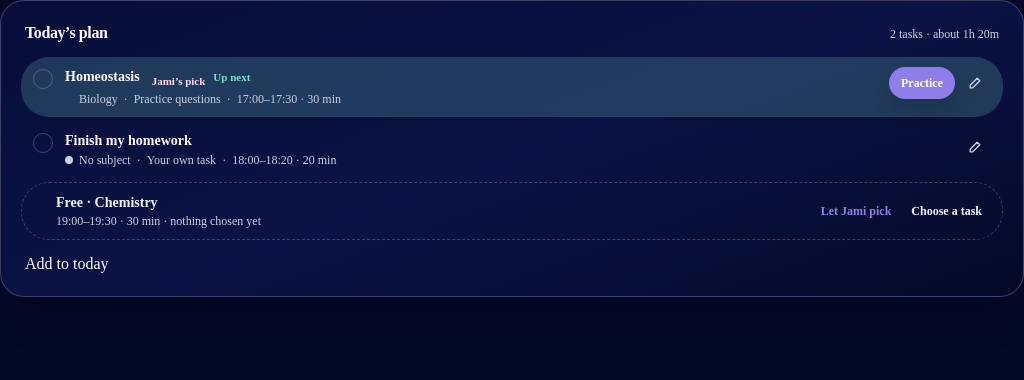
today's plan › says so when Jami has nothing to pick for a free session, rather than doing nothing
Step 1. Click the button "Let Jami pick" → x=853, y=211, box x1=807 y1=199 x2=899 y2=223
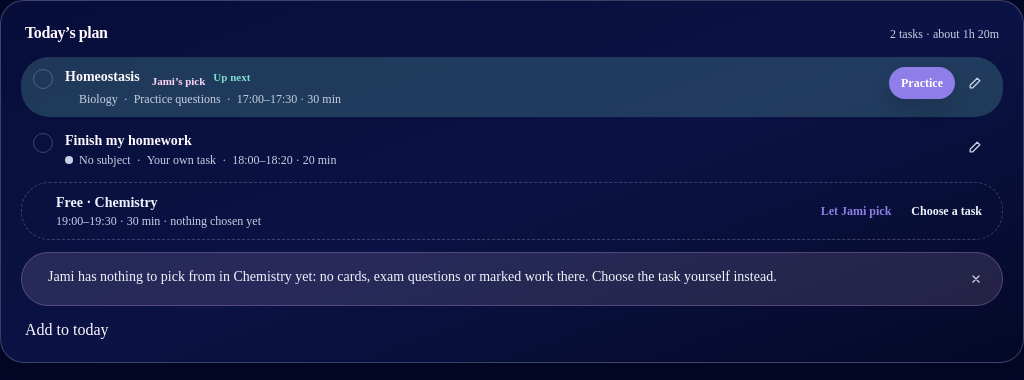
Expected: the text "Jami has nothing to pick from in Chemistry yet" is shown, x1=48 y1=269 x2=777 y2=284
